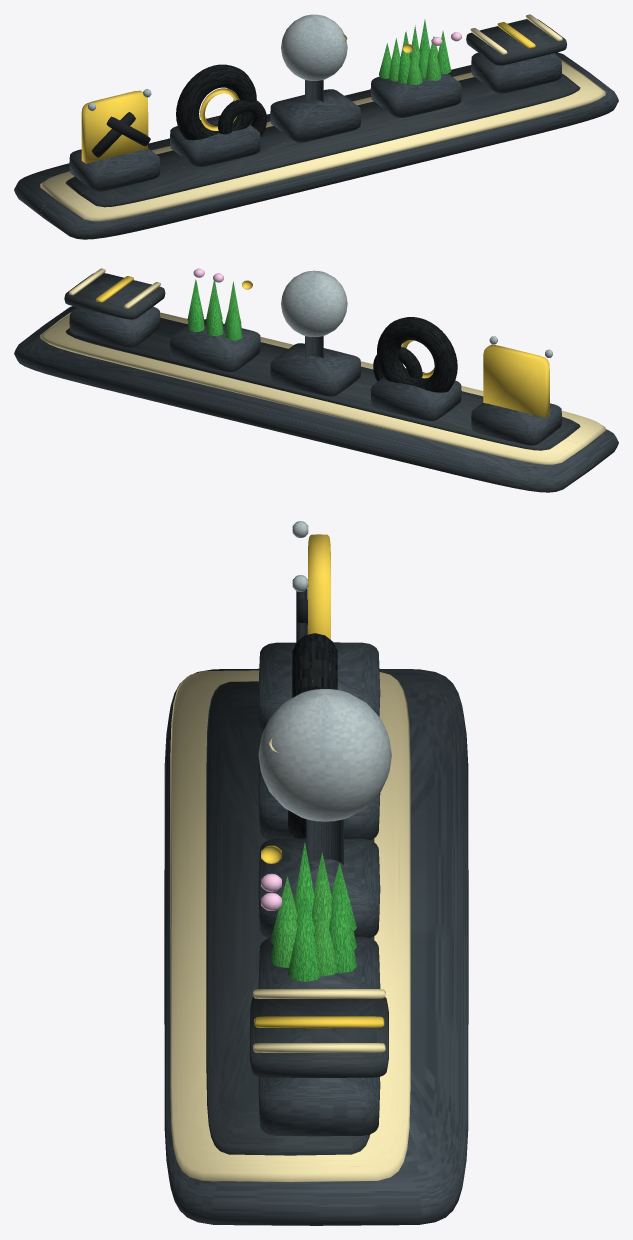
Rendered from material_showcase.glb.
3 views of the same model, one above another, from view 1: azimuth 30°, elevation 25°; view 2: azimuth 150°, elevation 25°; view 3: azimuth 270°, elevation 25° (orthographic). The views are drawn at different scales.
Bounding box in the file's own units: 8.8 × 2.04 × 2.1.
10 materials, 9 textured.
